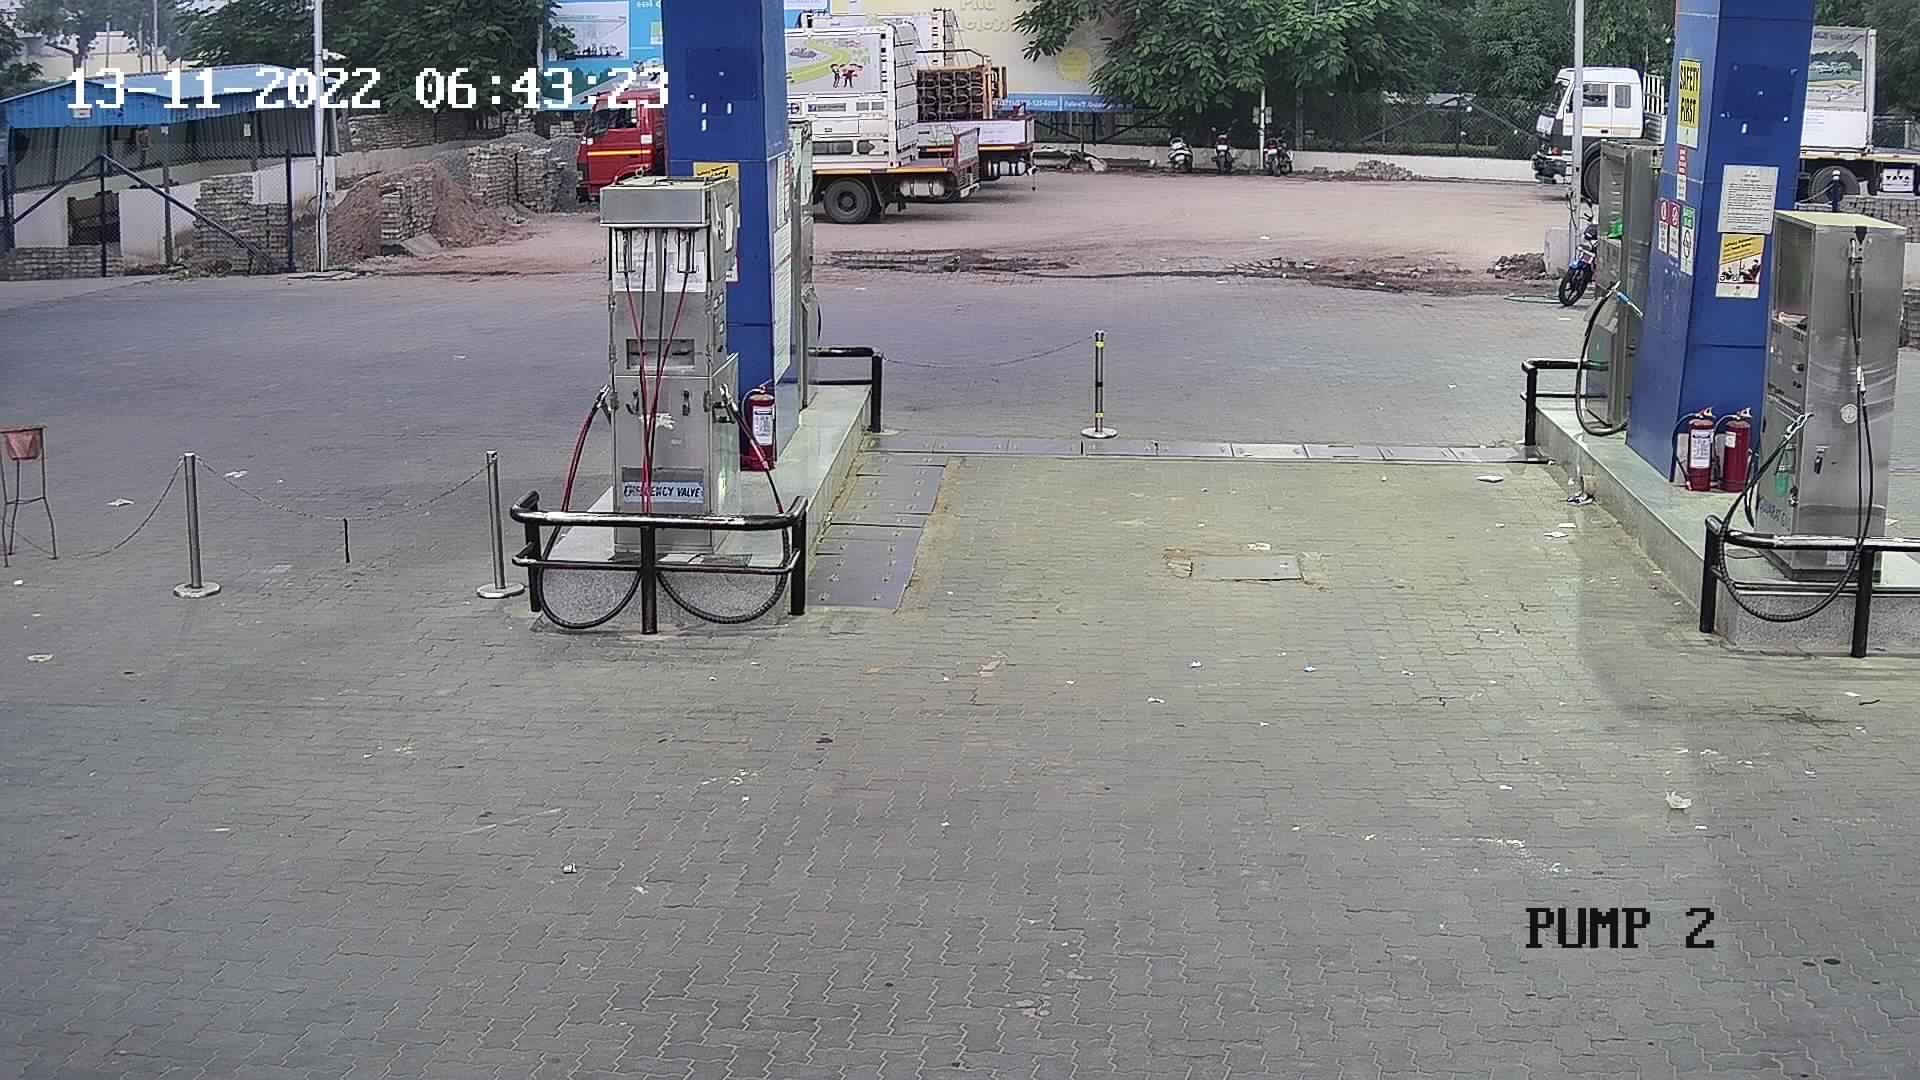Bike: (1542, 191, 1607, 320), (1156, 116, 1207, 181), (1262, 113, 1307, 182), (1207, 123, 1247, 173)
HMV: (791, 0, 1058, 194), (767, 8, 990, 229), (1514, 38, 1683, 212)
